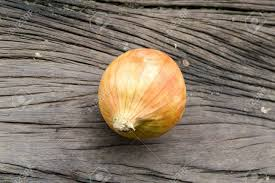onion: (97, 47, 187, 143)
